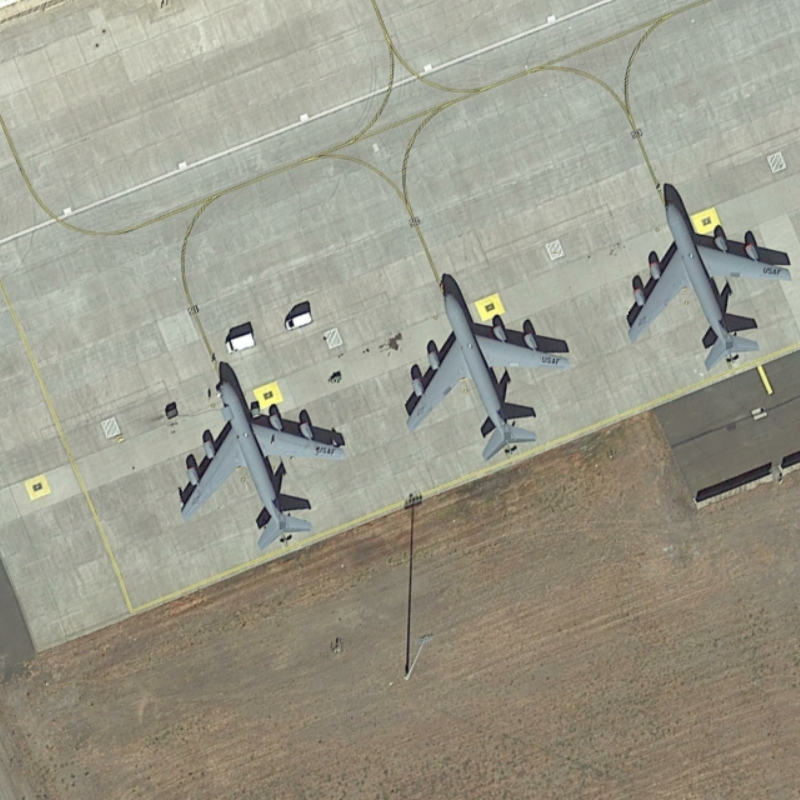A14: (171, 372, 359, 558), (621, 188, 793, 374), (399, 285, 577, 464)
